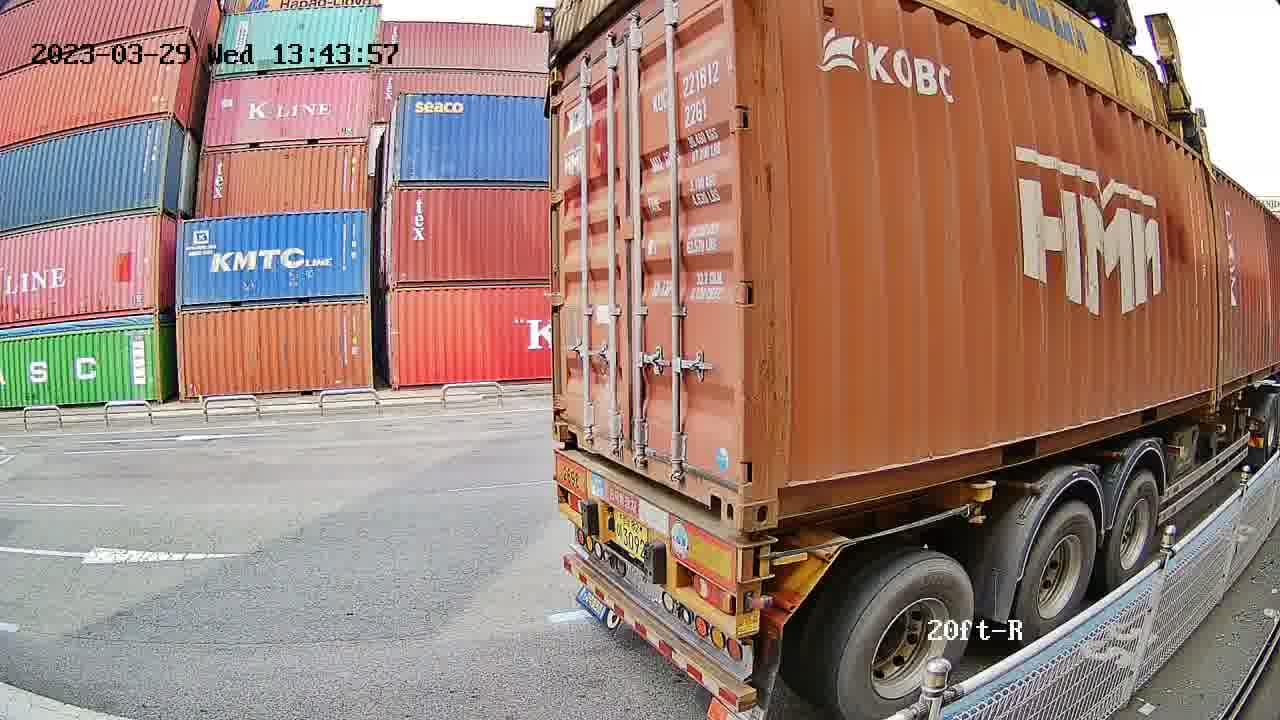Chassis: (555, 453, 775, 590)
Cone: (741, 531, 772, 581)
Hole_L: (739, 460, 814, 532), (552, 401, 585, 450)
Hole_R: (696, 451, 741, 532)
Tire: (837, 563, 973, 719), (1014, 506, 1097, 645), (1108, 472, 1160, 591)
